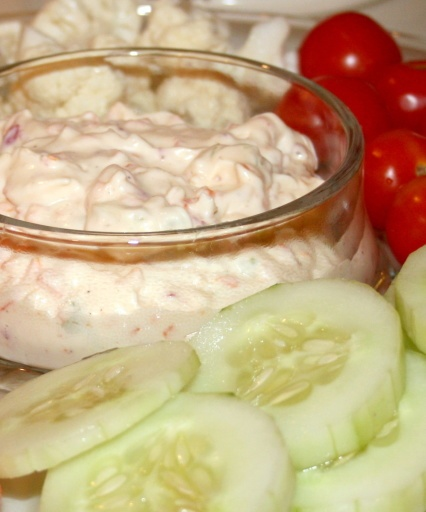background: (0, 0, 284, 410)
